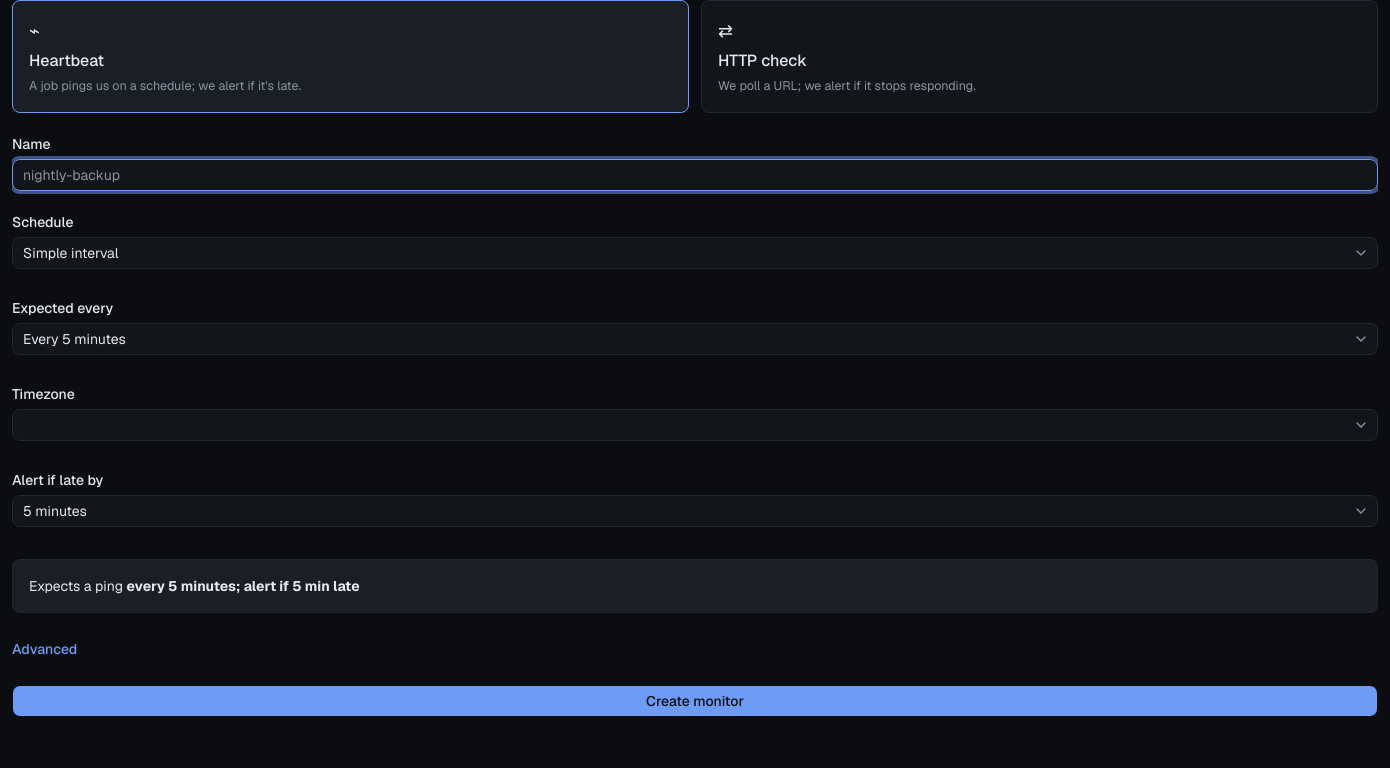
Test: MonitorForm › switching to HTTP check shows url/method fields with GET pre-selected and never resets to blank
Click the text "HTTP check": click(762, 60) [718, 50, 807, 71]
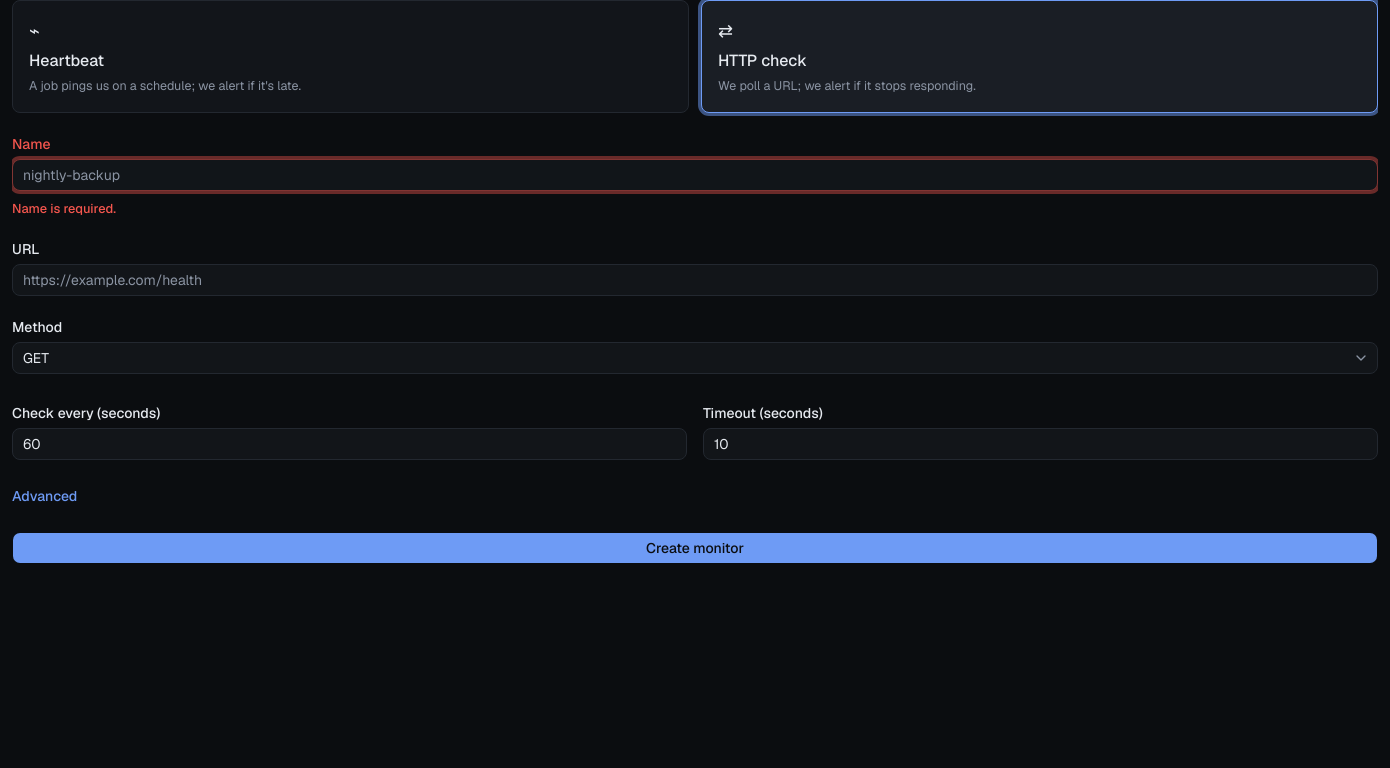
Expected: the field labelled "URL" is shown, [12, 264, 1378, 296]
Expected: the dropdown named "Method" reads "GET", [12, 342, 1378, 374]
